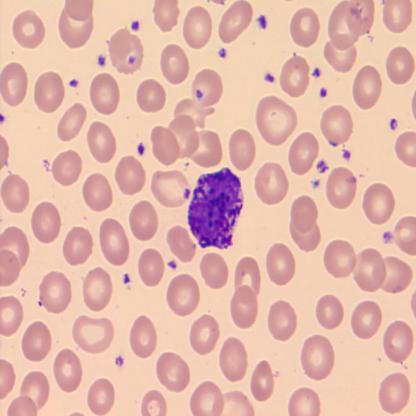Basophil: (187, 164, 245, 256)
